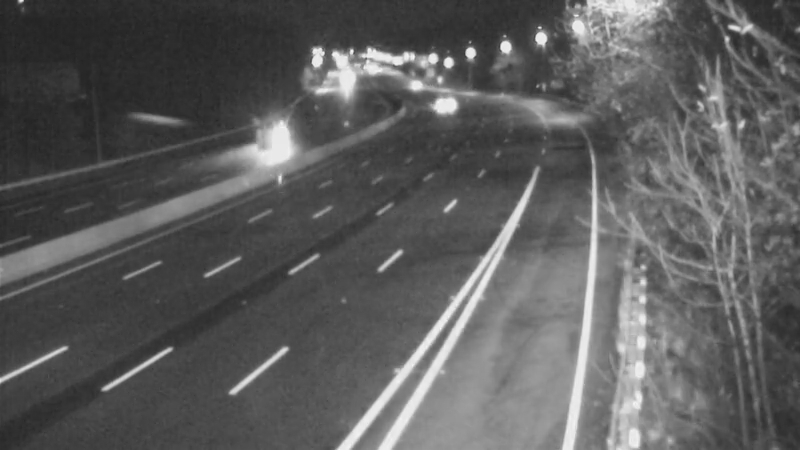vehicle: (390, 58, 440, 108), (423, 79, 473, 129), (252, 120, 302, 170)
